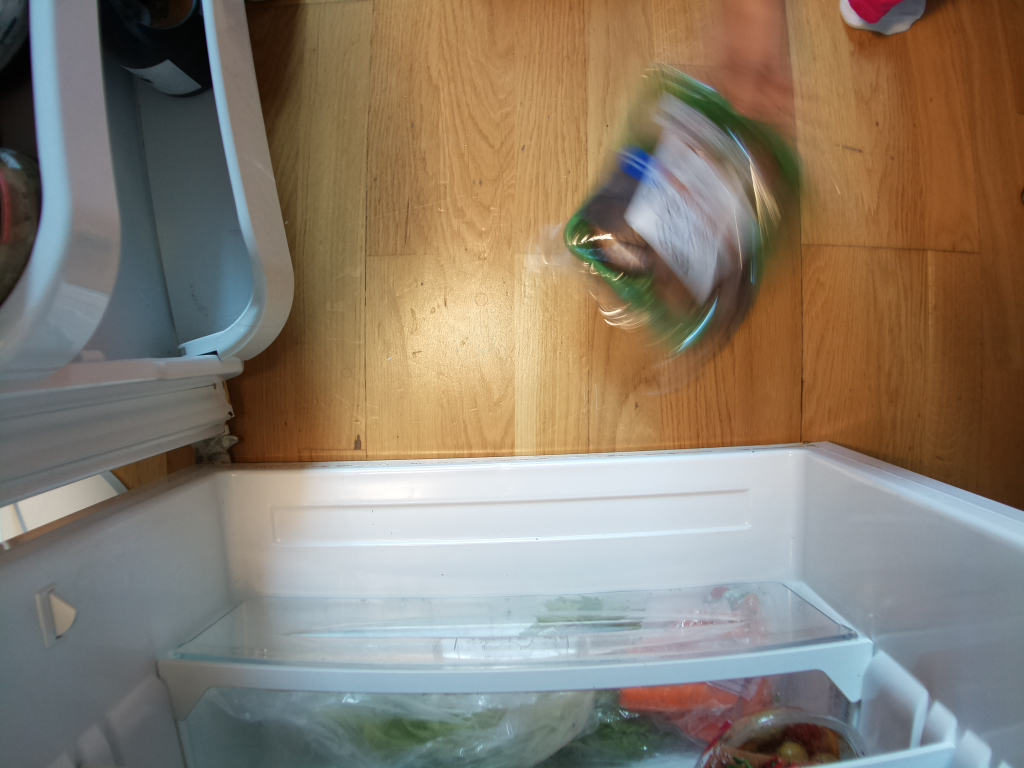mushrooms: (557, 67, 804, 349)
